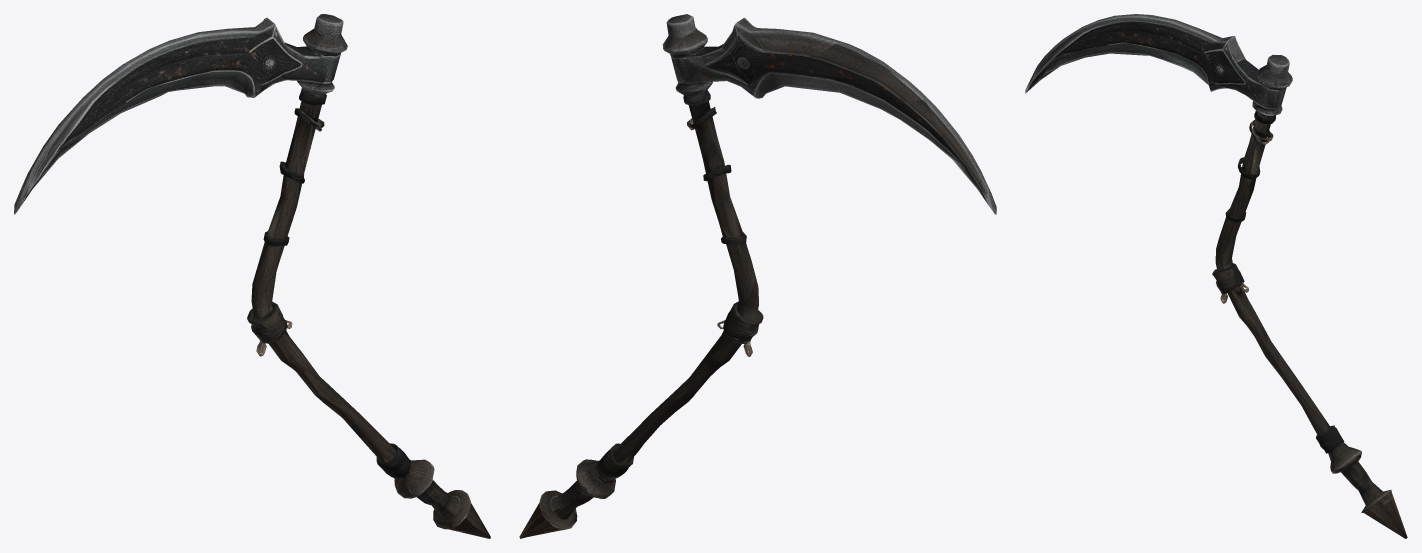
Rendered from modelo.fbx.
3 views of the same model, side by side, from view 1: azimuth 30°, elevation 25°; view 2: azimuth 150°, elevation 25°; view 3: azimuth 330°, elevation 25° (orthographic). The views are drawn at different scales.
Parts seen in each view (by area): view 1: Mesh_0; view 2: Mesh_0; view 3: Mesh_0.
Boxes of the visible parts, x1,y1,x2,y2 form: Mesh_0: (14, 14, 490, 538); Mesh_0: (519, 14, 996, 538); Mesh_0: (1025, 14, 1407, 538).
Size of the model in its own units: 165 by 190 by 15.15.
Materials: 1 (1 with a texture image).
